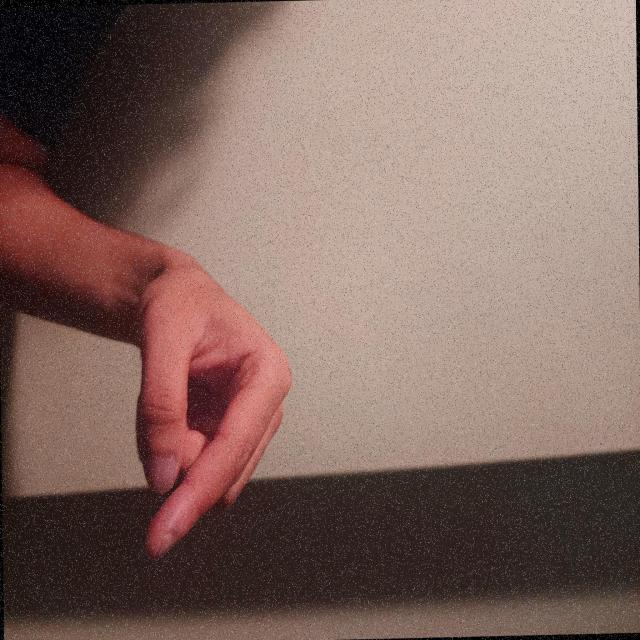Z: (328, 451, 588, 640)
